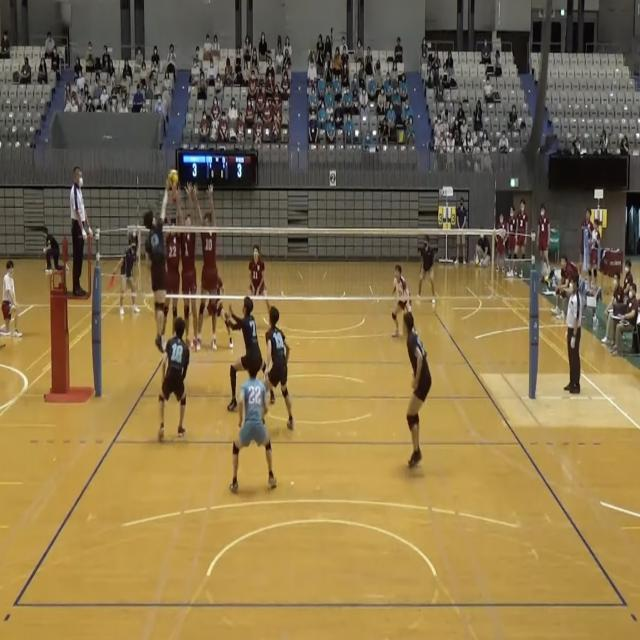spike: (142, 166, 182, 357)
